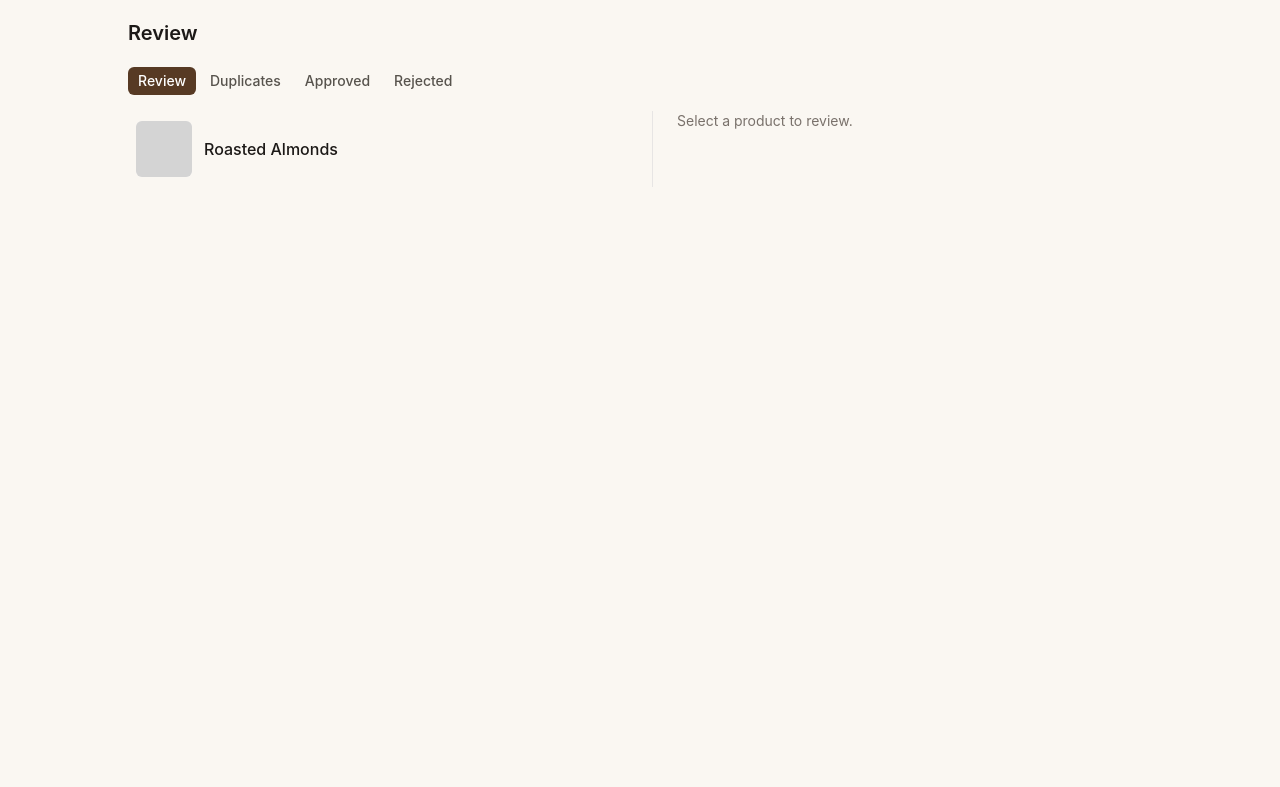
Scenario: ReviewPage › lists exactly what is still missing when the product is incomplete
Step 1. Click the button "Roasted Almonds" → (164,149), box 128,111 -> 628,187
(page scrolled)
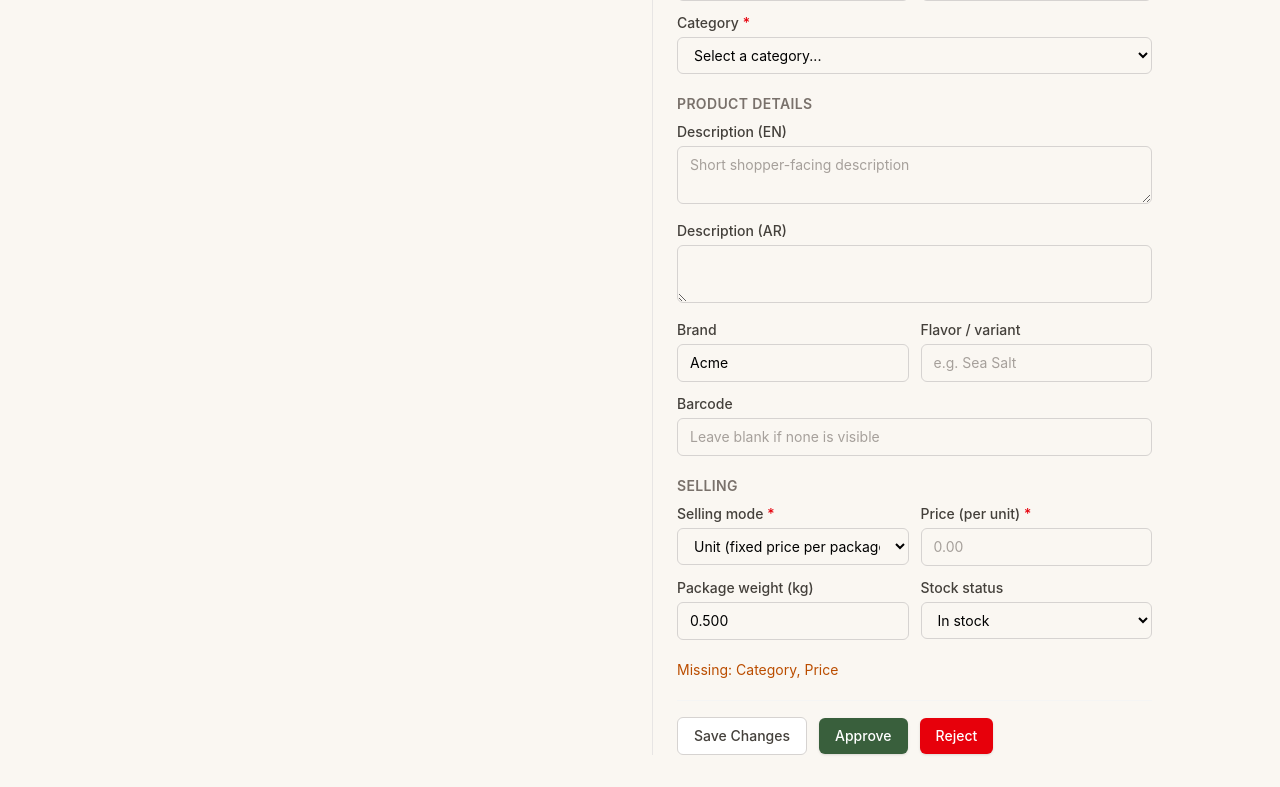
expect the text with test id "approval-readiness" shows "Missing:": met, box 677,661 -> 736,678
expect the text with test id "approval-readiness" shows "Category": met, box 736,661 -> 838,678
expect the text with test id "approval-readiness" shows "Price": met, box 736,661 -> 838,678
